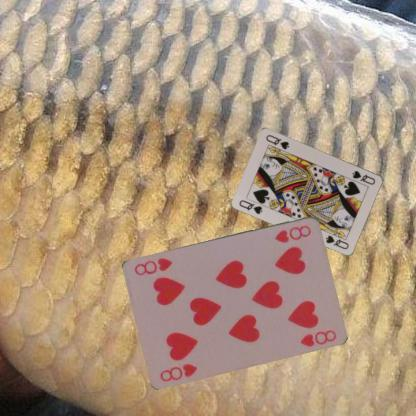8h: (157, 361, 199, 383), (272, 222, 313, 244)
Qs: (237, 197, 264, 216), (350, 168, 376, 186)
